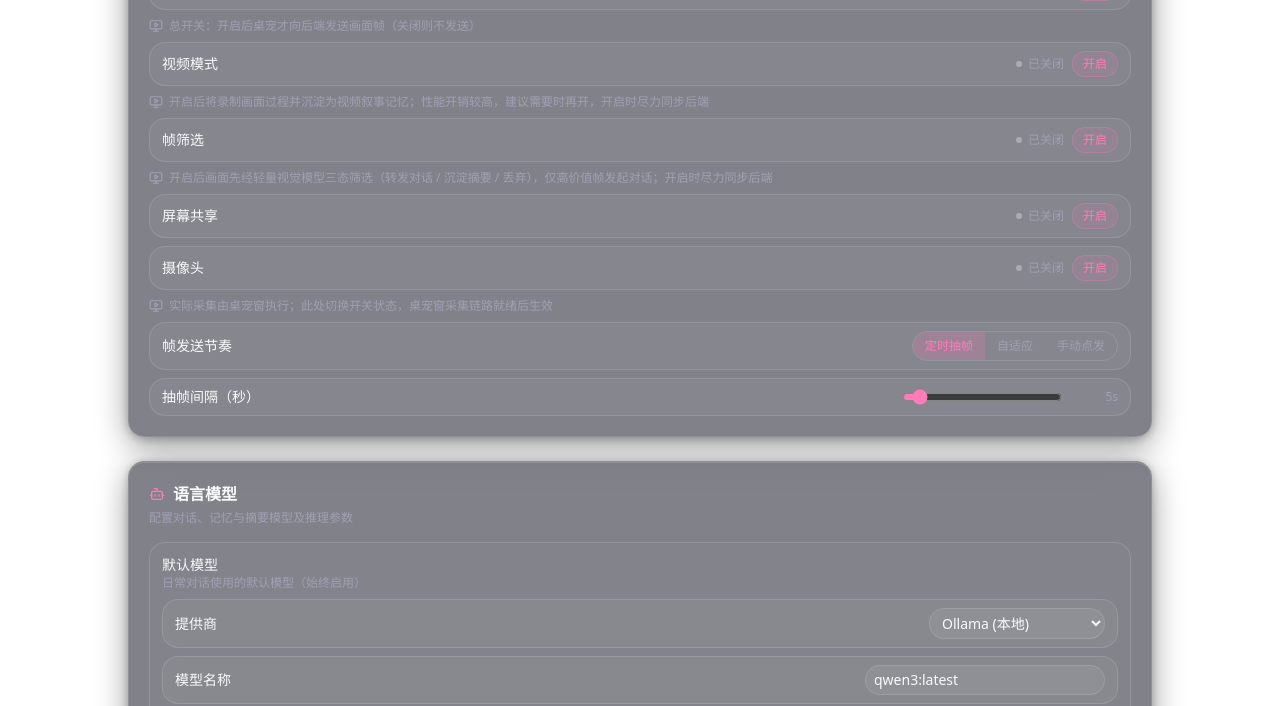
Test: SettingsPage 五区块 › 自适应占空比滑条：仅 adaptive 档渲染、范围 10-90 步进 1、改动写入 store
(page scrolled)
Check: the slider labelled "自适应占空比" is not shown
Check: the slider named "抽帧间隔（秒）" is shown, box 902,389 -> 1062,405
// 切 adaptive：占空比滑条出现，范围 10-90、步进 1
Click the button "自适应": (1015, 346) 985,332 -> 1045,360
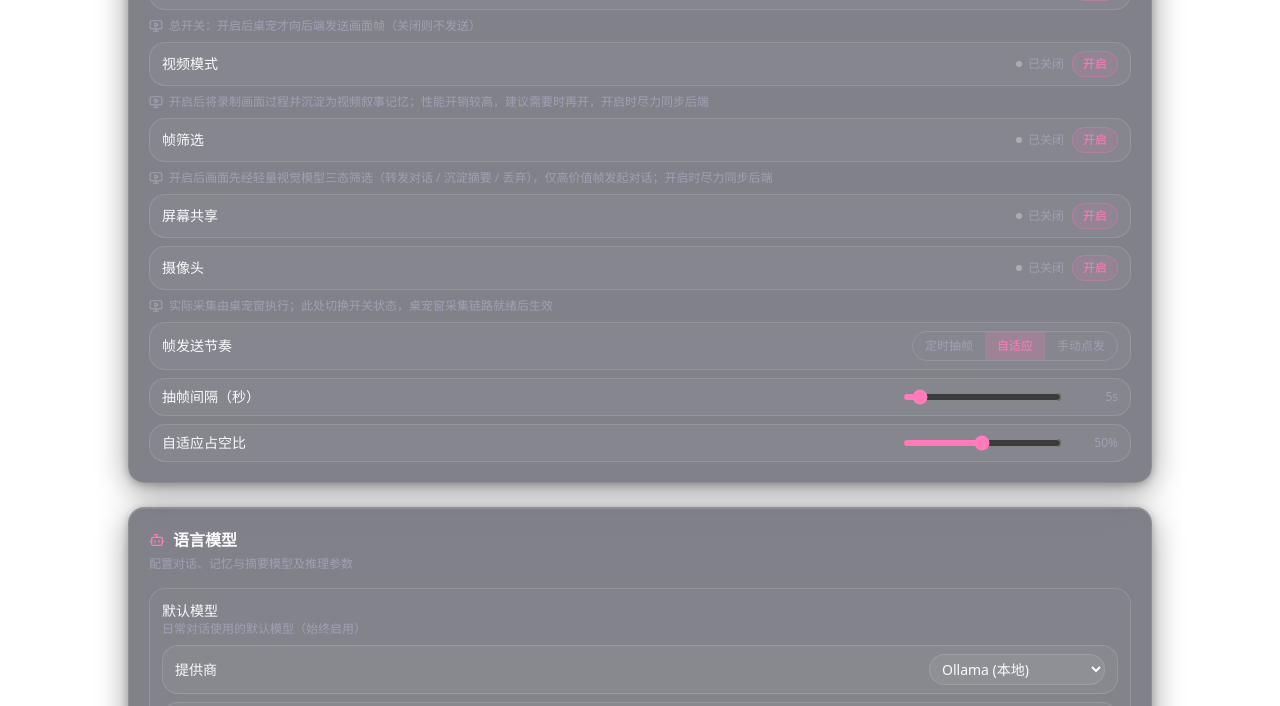
Check: the slider named "自适应占空比" is shown
// 拖动至 80：改动即写入 store
Set the slider named "自适应占空比" to "80": (1036, 443) 902,435 -> 1062,451
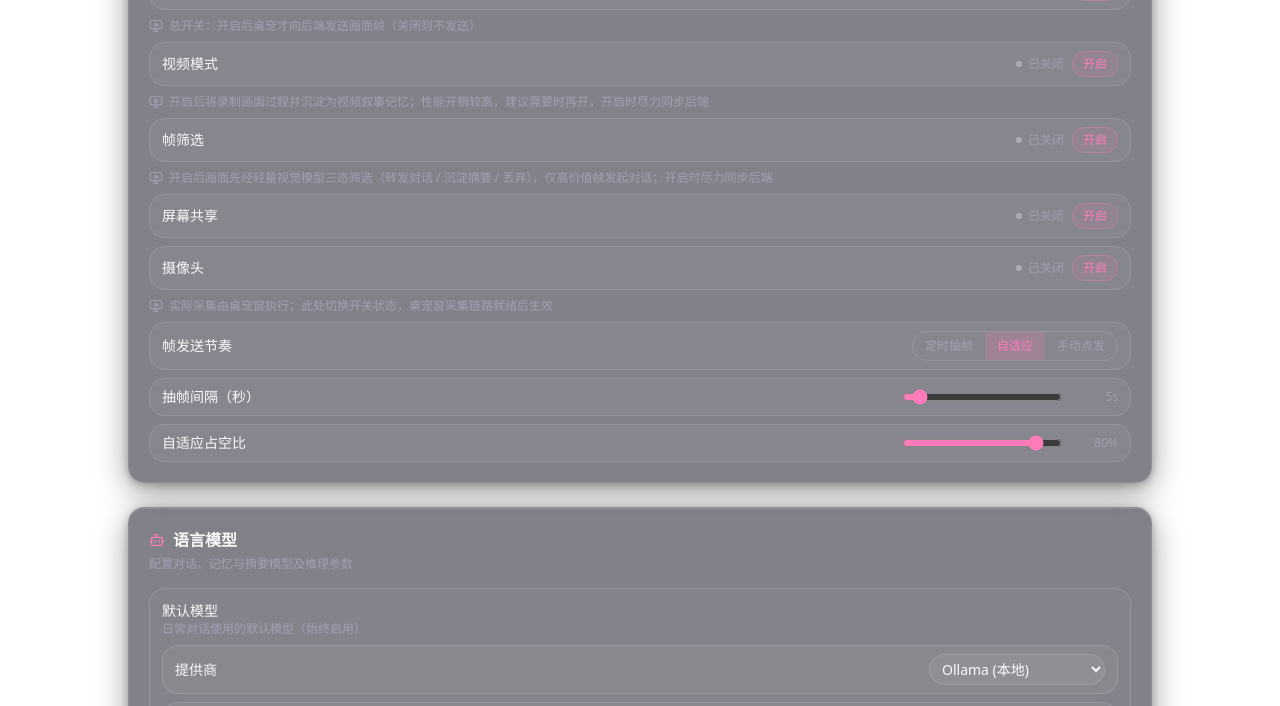
// 切回 interval：占空比滑条消失
Click the button "定时抽帧": (949, 346) 913,332 -> 985,360
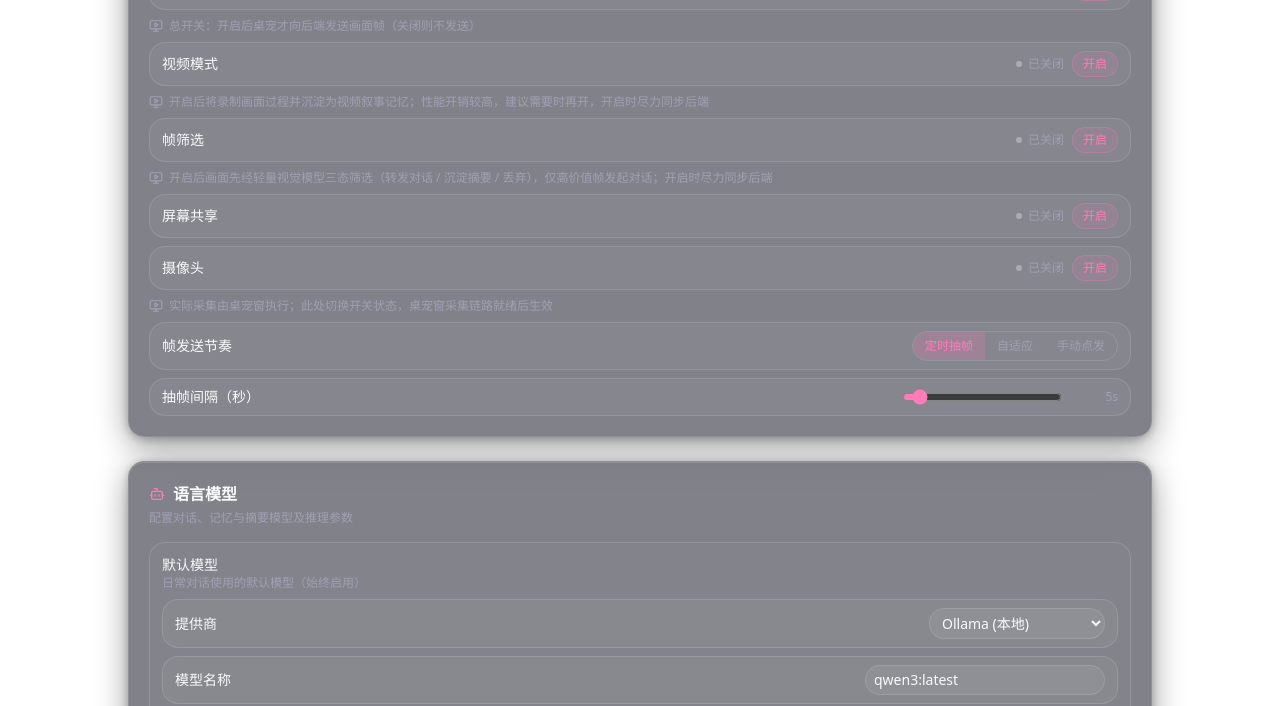
Check: the text "自适应占空比" is gone
